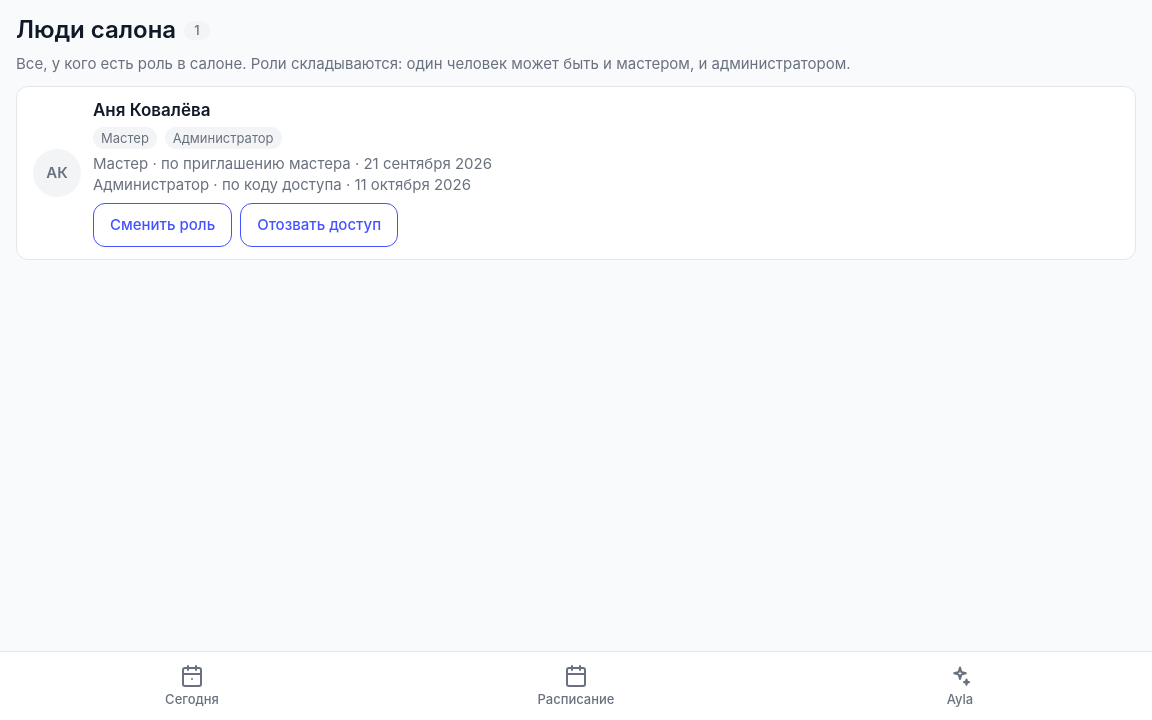
it: the confirmation names who and what › lists every role a two-role person is about to lose
The width and height of the screenshot is (1152, 720).
Click the button with aria-label "Отозвать доступ у Аня Ковалёва" at (319, 225), box [240,203,398,247]
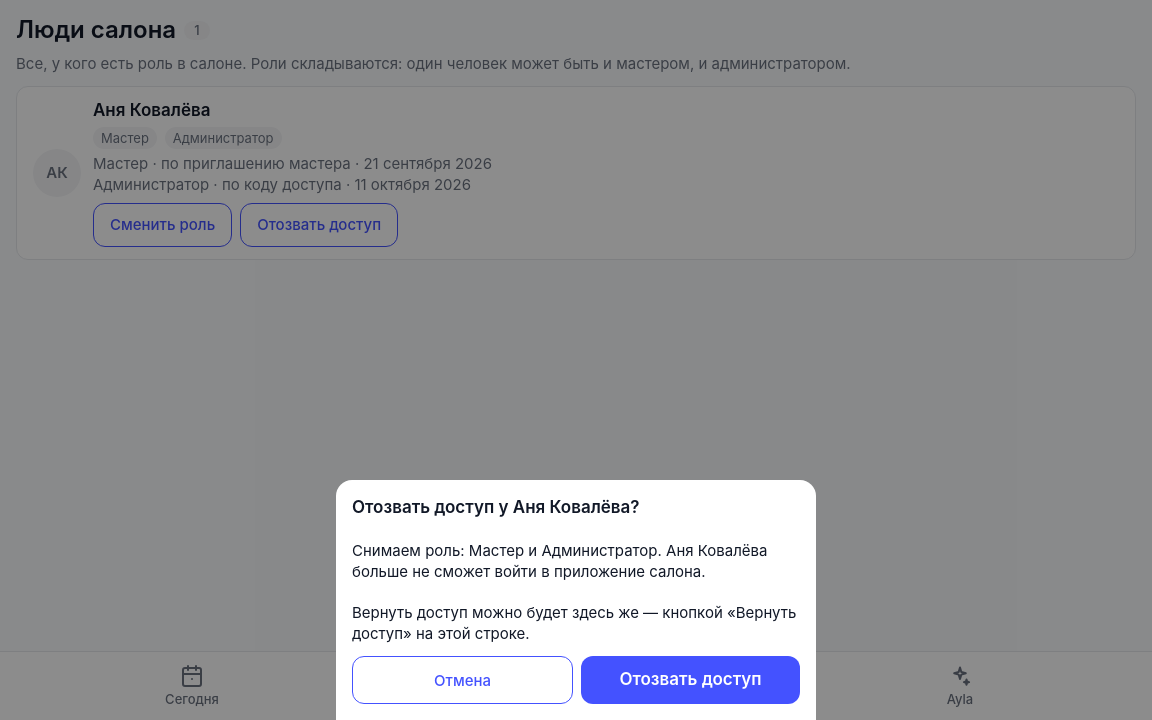
expect the dialog is shown: met
expect the text "Снимаем роль: Мастер и Администратор." is shown: met, box [352,541,767,581]
